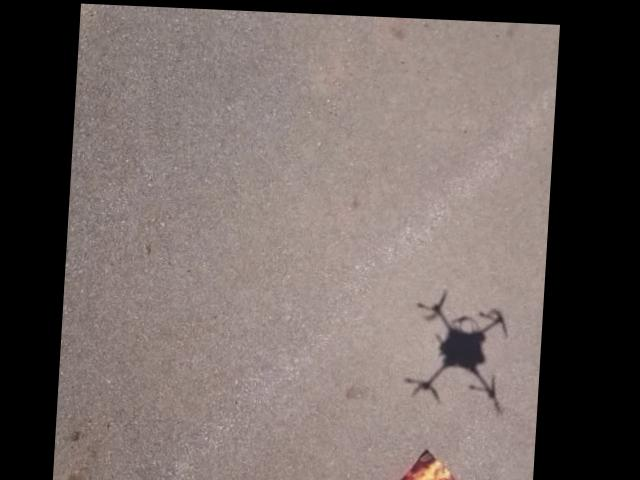fire-poster: (363, 441, 515, 480)
